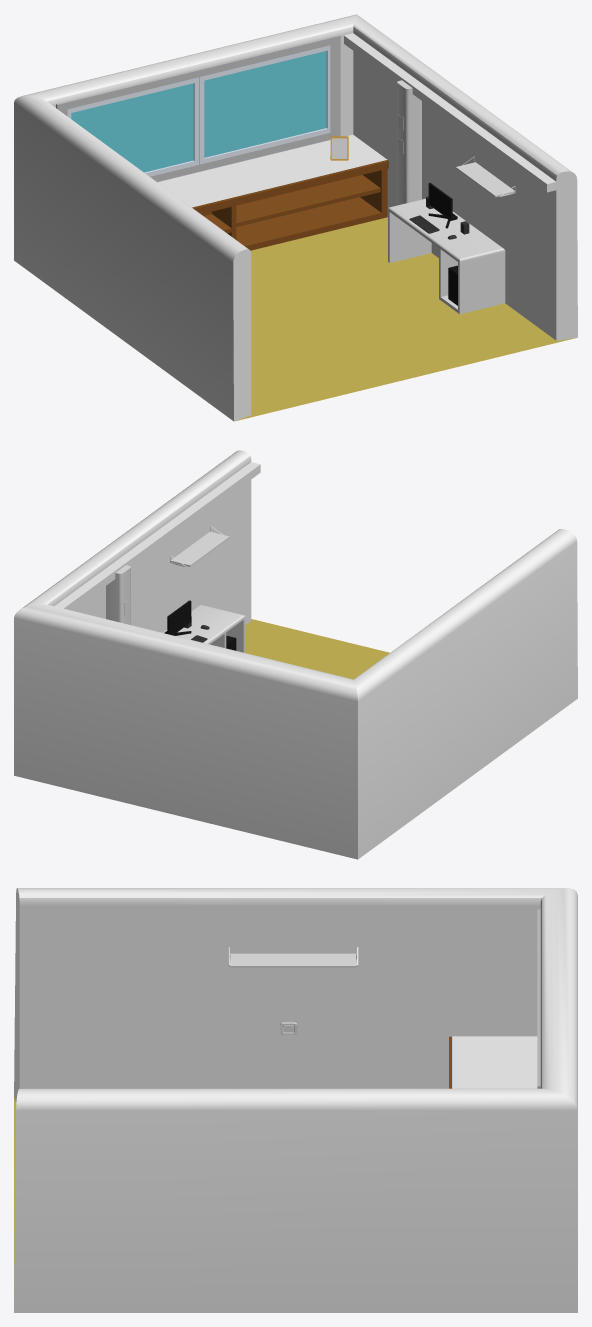
File: estudio final pivote general.fbx
The picture shows the model from 3 angles, top to bottom: view 1: azimuth 30°, elevation 25°; view 2: azimuth 150°, elevation 25°; view 3: azimuth 270°, elevation 25°; orthographic projection. The views are drawn at different scales.
Parts seen in each view (by area): view 1: Mapa, Ventana 2, Cube, Ventana, Escritorio, Ventana marco, Cube.001, Columna, Cube.002, Estante, Pc; view 2: Mapa, Escritorio, Columna, Estante, Pc; view 3: Mapa, Cube, Estante 2, Ventana marco.
Boxes of the visible parts, x1,y1,x2,y2 form: Mapa: (14, 14, 577, 421); Ventana 2: (199, 45, 330, 164); Cube: (158, 134, 387, 250); Ventana: (67, 77, 199, 176); Escritorio: (388, 198, 505, 314); Ventana marco: (56, 35, 340, 181); Cube.001: (204, 175, 380, 239); Columna: (397, 80, 421, 205); Cube.002: (193, 160, 388, 213); Estante: (455, 156, 515, 197); Pc: (428, 183, 457, 228); Mapa: (14, 450, 577, 859); Escritorio: (162, 604, 245, 652); Columna: (106, 565, 130, 624); Estante: (170, 526, 229, 566); Pc: (164, 600, 191, 635); Mapa: (14, 888, 577, 1312); Cube: (452, 1036, 537, 1088); Estante 2: (228, 947, 358, 967); Ventana marco: (537, 909, 540, 1088).
Bounding box in the file's own units: 4.55 × 2.12 × 5.04.
